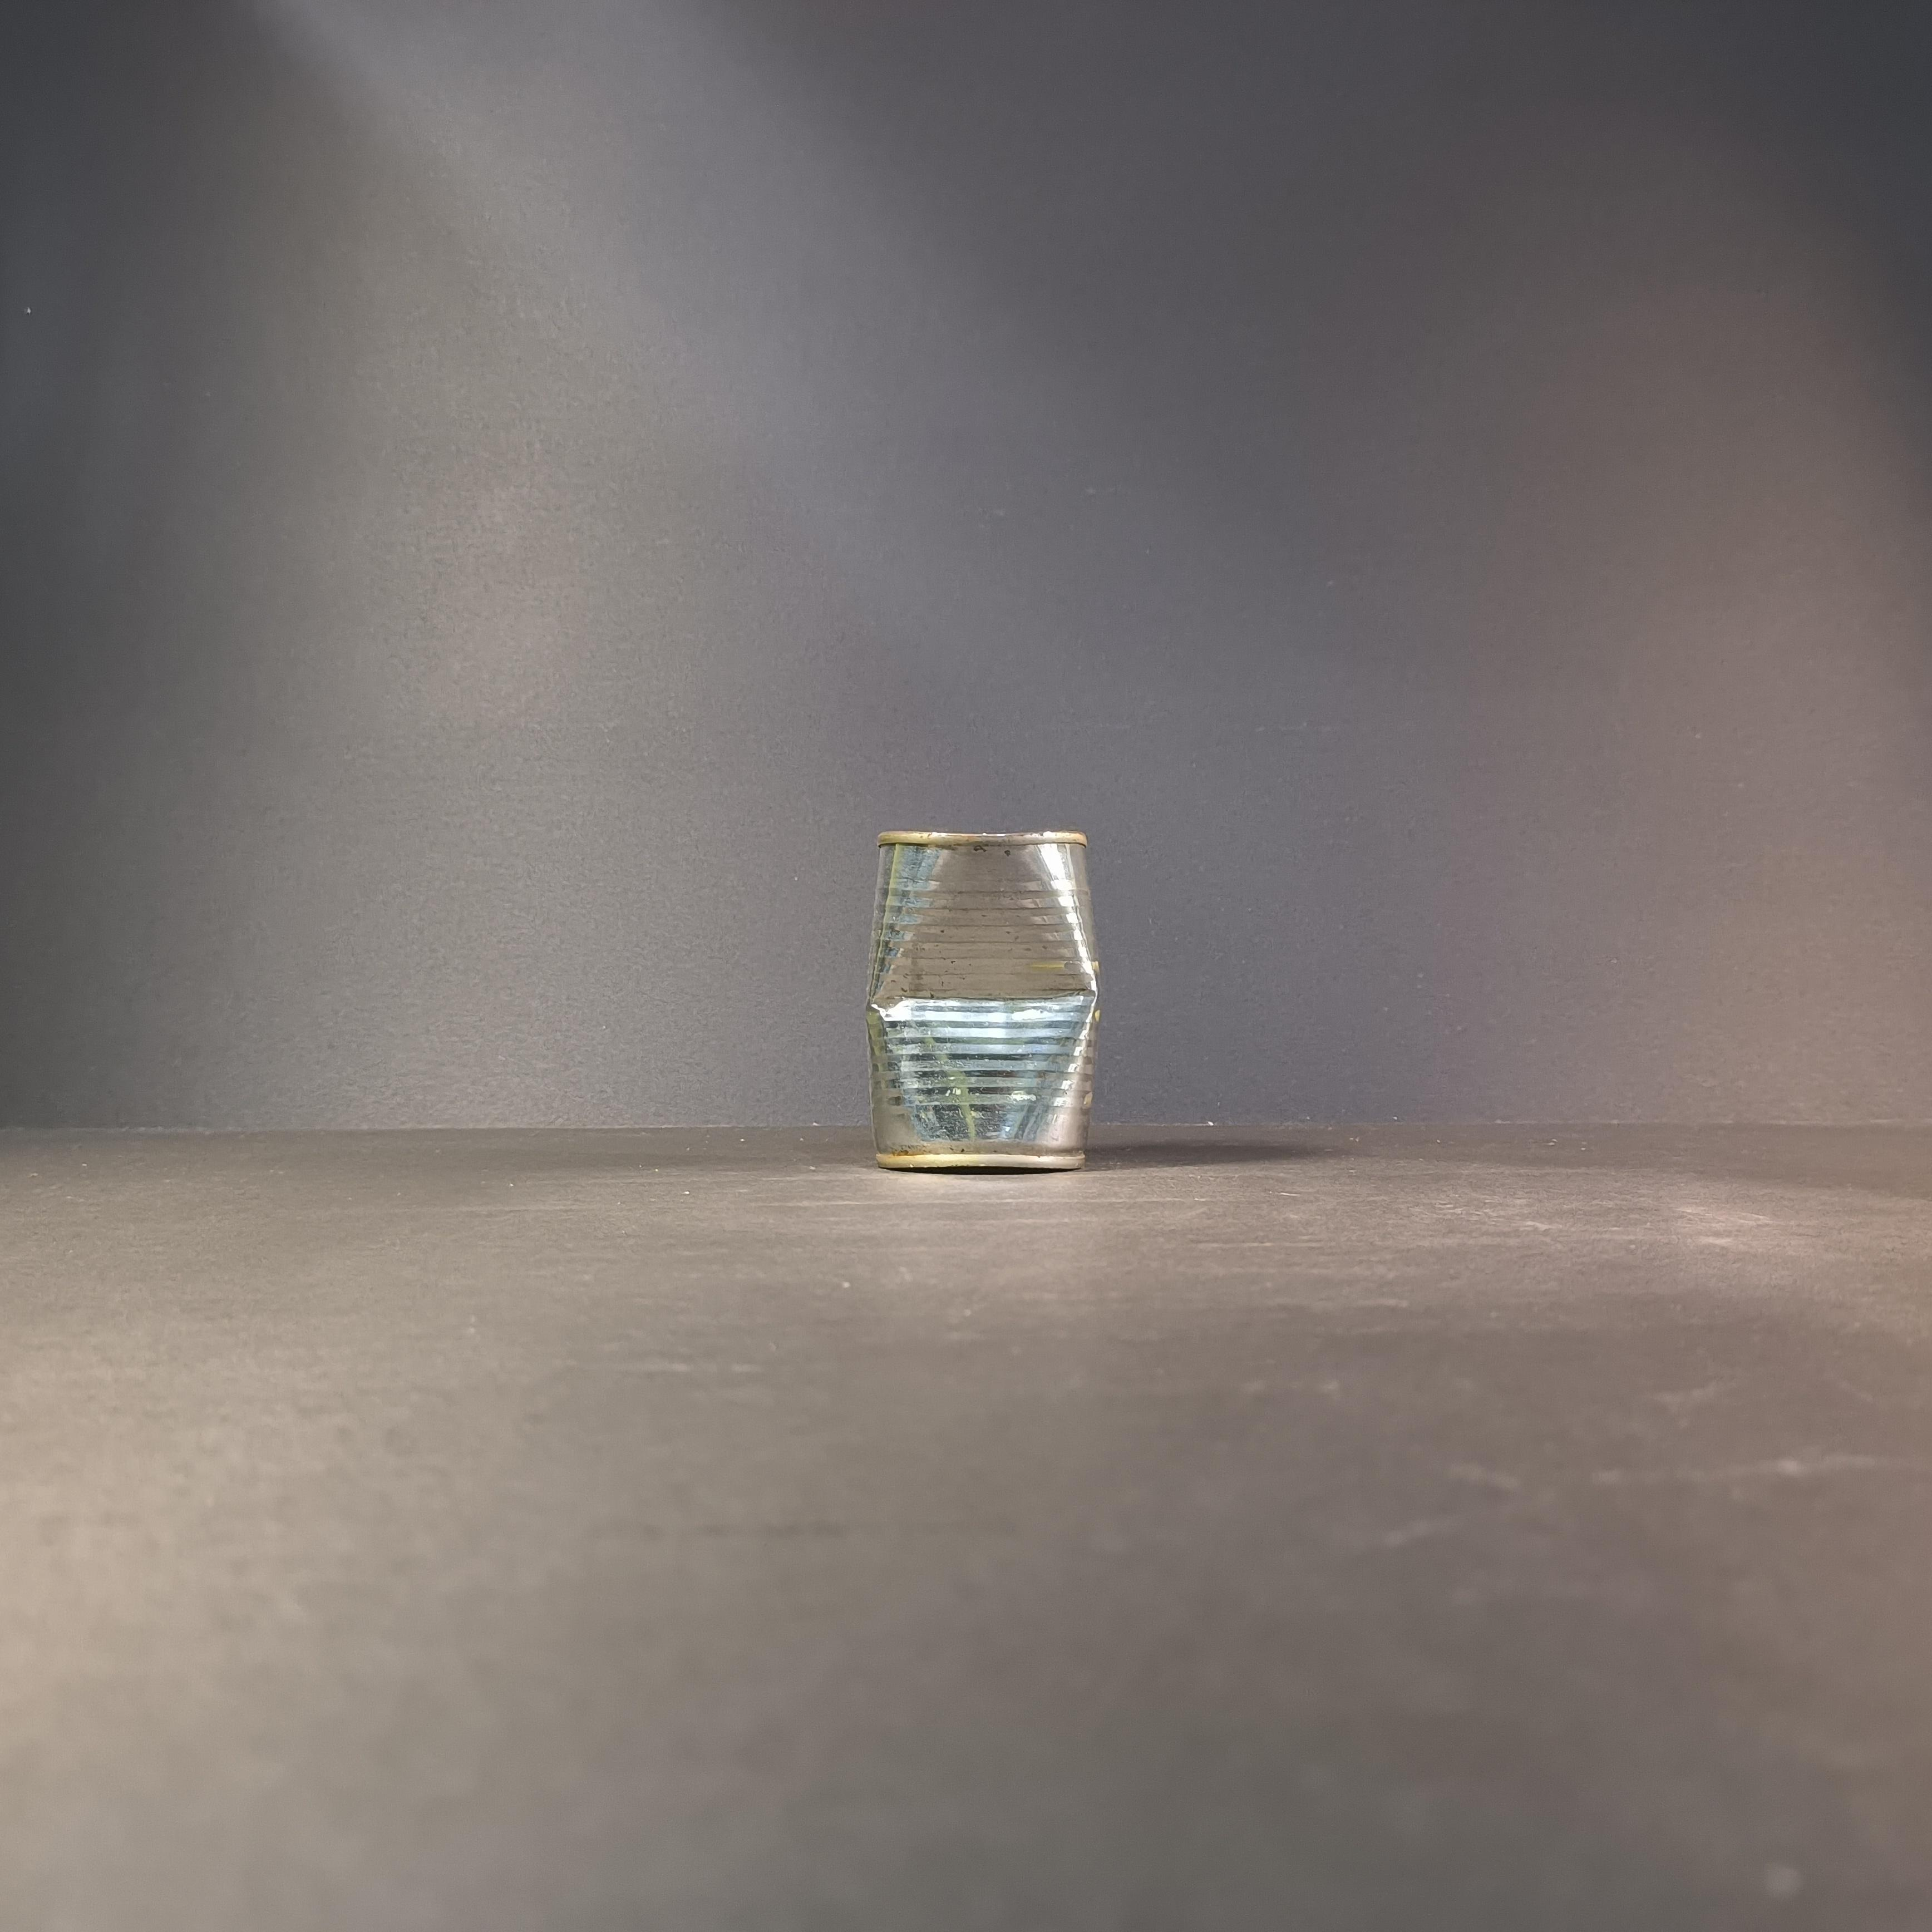Dented: (865, 798, 1104, 1191)
